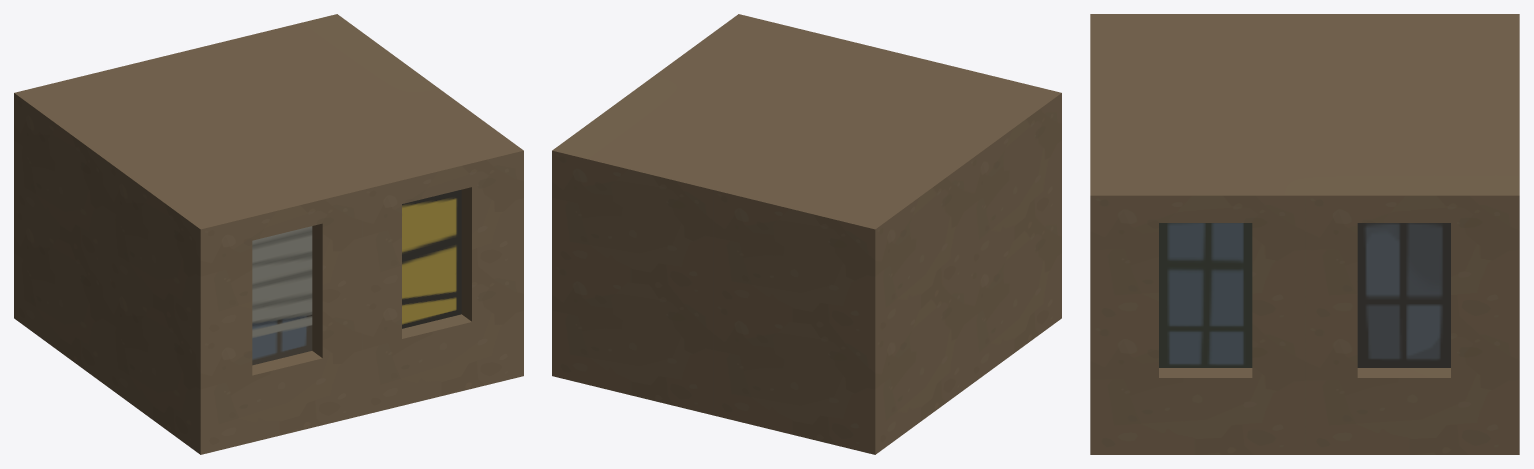
File: Bock_F3.fbx
The picture shows the model from 3 angles, left to right: view 1: azimuth 30°, elevation 25°; view 2: azimuth 150°, elevation 25°; view 3: azimuth 270°, elevation 25°; orthographic projection. The views are drawn at different scales.
Visible parts, largest first — view 1: Bock_F3; view 2: Bock_F3; view 3: Bock_F3.
Part boxes in pixels (x1=…): Bock_F3: x1=14, y1=14, x2=523, y2=454; Bock_F3: x1=552, y1=14, x2=1061, y2=454; Bock_F3: x1=1090, y1=14, x2=1519, y2=454.
Size of the model in its own units: 600 by 400 by 600.
